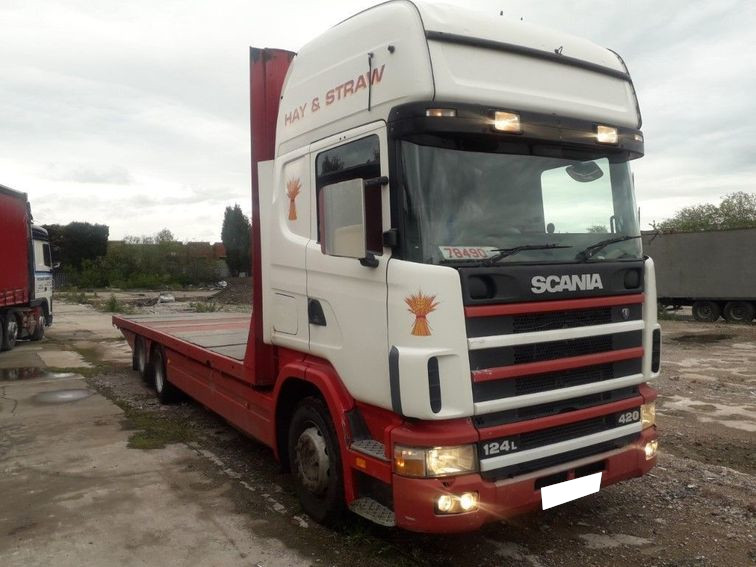Semi: (110, 0, 660, 536)
